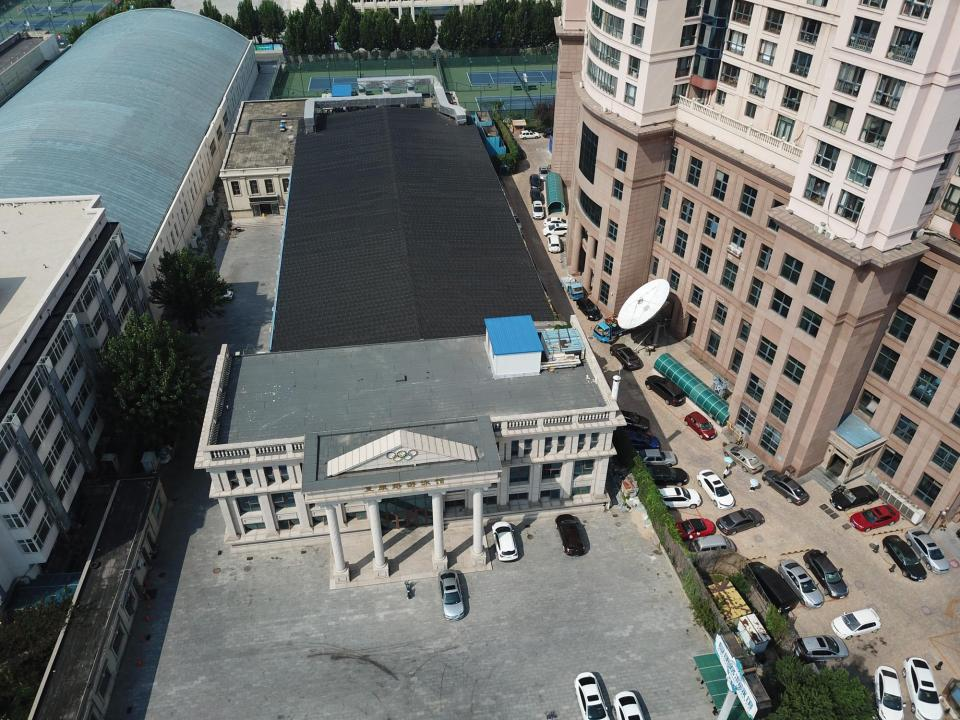car: (742, 561, 796, 615), (902, 656, 944, 720), (778, 559, 824, 609), (803, 550, 849, 599), (882, 534, 927, 582), (905, 528, 949, 574), (574, 671, 613, 720), (872, 665, 906, 720), (761, 469, 810, 506), (792, 634, 850, 664), (830, 607, 882, 640), (696, 469, 735, 510), (716, 507, 765, 536), (850, 504, 900, 532), (829, 484, 879, 512), (438, 569, 464, 621), (555, 514, 585, 557), (723, 443, 764, 474), (645, 375, 685, 406), (650, 487, 701, 510), (636, 464, 688, 486), (668, 518, 715, 542), (611, 430, 661, 452), (492, 521, 518, 562), (610, 408, 650, 434), (613, 690, 646, 720), (684, 411, 717, 441), (627, 448, 677, 467), (610, 343, 640, 370), (576, 297, 601, 321), (195, 287, 233, 301), (542, 223, 574, 237), (543, 217, 572, 228), (546, 235, 560, 253), (542, 128, 567, 138), (532, 200, 544, 220), (530, 188, 544, 205), (513, 229, 526, 247), (509, 213, 522, 230), (519, 130, 540, 140), (500, 198, 513, 214), (529, 174, 541, 191), (538, 166, 550, 181), (512, 145, 524, 160), (494, 183, 506, 197)
truck: (590, 310, 636, 342), (558, 274, 584, 300)
van: (691, 533, 735, 560), (504, 132, 516, 144)
